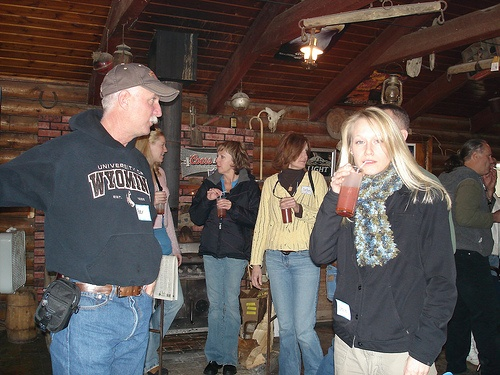head: (94, 57, 185, 148), (351, 108, 393, 175), (273, 124, 313, 176), (459, 134, 494, 181), (211, 137, 245, 180), (146, 128, 173, 172)
person: (1, 61, 182, 375), (305, 104, 456, 375), (250, 125, 329, 375), (185, 135, 259, 372), (435, 134, 499, 373), (143, 124, 182, 366)
